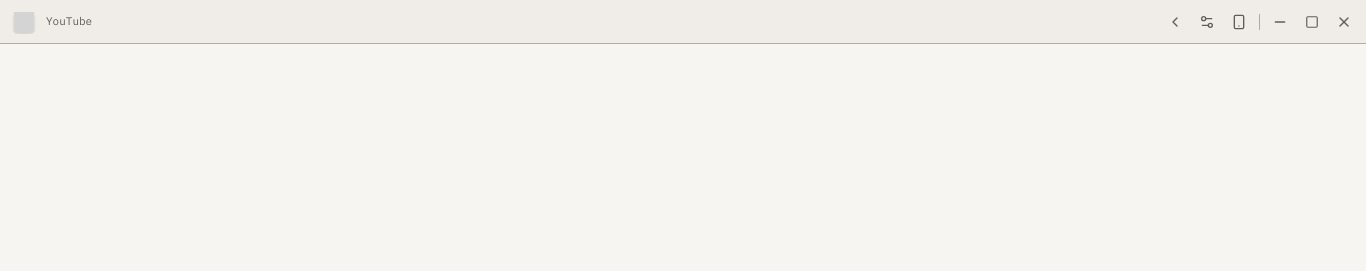
Test case: TitleBar — Telefona nasıl aktarılsın menüsü › başlığa sağ tık imlecin yanında Tam ekran / Serbest pencere kartını açar; aktarım BAŞLAMAZ
Right-click the text "YouTube" at (69, 22), box [46,13,92,30]
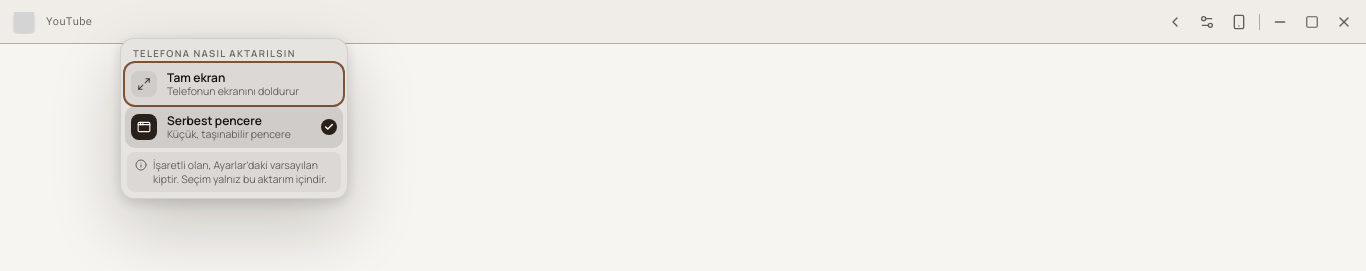
Now the element "Telefona nasıl aktarılsın" is shown, box [120,38,348,198]
